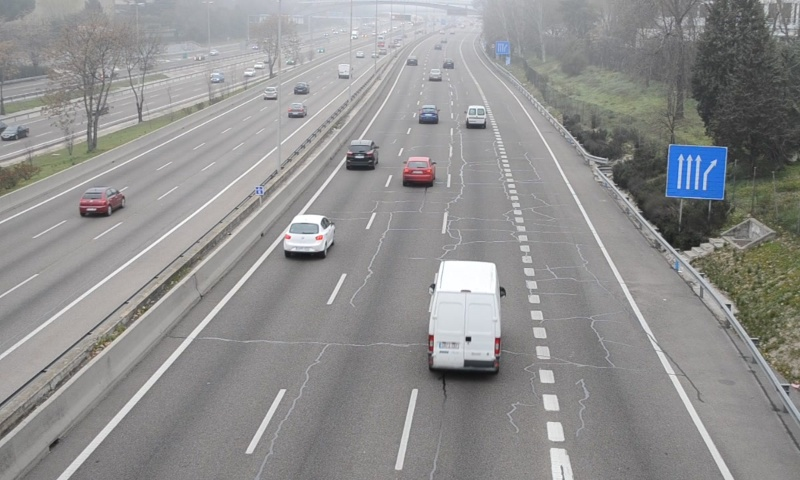car: (282, 214, 335, 253), (345, 140, 378, 171), (402, 156, 434, 184), (418, 104, 439, 124)
van: (429, 262, 500, 374), (466, 105, 488, 129)
